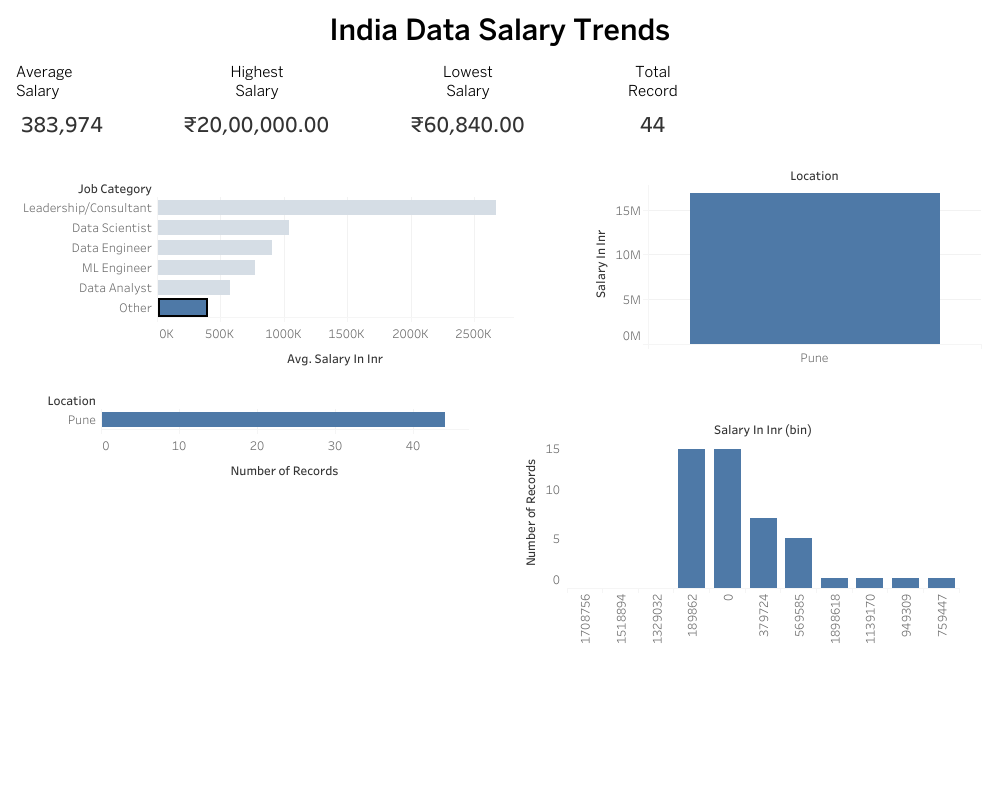

The dashboard page shown, as its layout file describes it:
{"tool":"tableau","page":{"name":"Dashboard 1","canvas":[1000,800],"ordinal":0},"visuals":[{"type":"title","box":[8,8,984,43]},{"type":"worksheet","title":"Average Salary","mark":"Automatic","box":[8,51,140,90]},{"type":"worksheet","title":"Highest Salary","mark":"Automatic","box":[148,51,185,91]},{"type":"worksheet","title":"Lowest Salary","mark":"Automatic","box":[333,51,188,90]},{"type":"worksheet","title":"Total Records","mark":"Automatic","box":[521,51,471,741]},{"type":"worksheet","title":"Salary Distribution by City","mark":"Automatic","rows":["salary_in_inr"],"cols":["Location"],"box":[584,165,397,201]},{"type":"worksheet","title":"Avg Salary by Role","mark":"Automatic","rows":["job_category"],"cols":["salary_in_inr"],"box":[17,177,496,203]},{"type":"worksheet","title":"Number of Employees by City","mark":"Automatic","rows":["Location"],"cols":["Calculation_216313553134280704"],"box":[21,389,447,234]},{"type":"worksheet","title":"Salary Range Distribution","mark":"Automatic","rows":["Calculation_216313553134280704"],"cols":["Salary In Inr (bin)"],"box":[514,419,445,229]}]}

Visuals, with their boxes in screenshot pixels (x1, y1, x2, y2), scaled from the page's 1000x800 canvas onto the 999x799 screenshot:
title: bbox(8, 8, 991, 51)
"Average Salary" worksheet: bbox(8, 51, 148, 141)
"Highest Salary" worksheet: bbox(148, 51, 333, 142)
"Lowest Salary" worksheet: bbox(333, 51, 520, 141)
"Total Records" worksheet: bbox(520, 51, 991, 791)
"Salary Distribution by City" worksheet: bbox(583, 165, 980, 366)
"Avg Salary by Role" worksheet: bbox(17, 177, 512, 380)
"Number of Employees by City" worksheet: bbox(21, 389, 468, 622)
"Salary Range Distribution" worksheet: bbox(513, 418, 958, 647)
